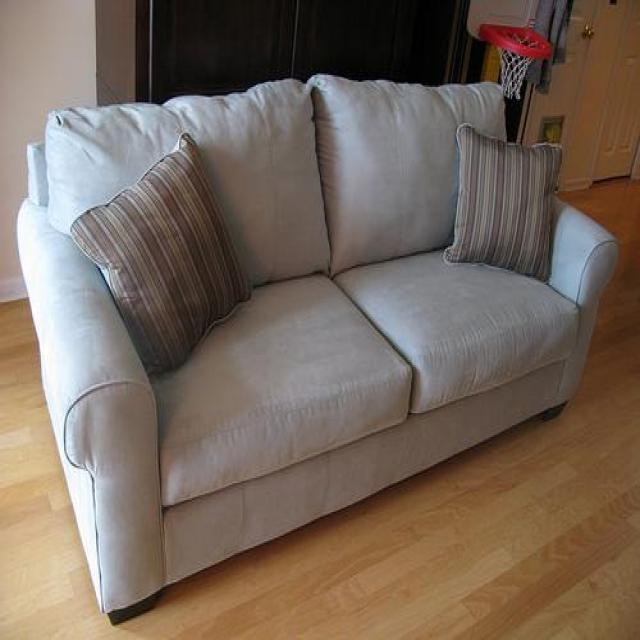sofa: (16, 70, 620, 625)
